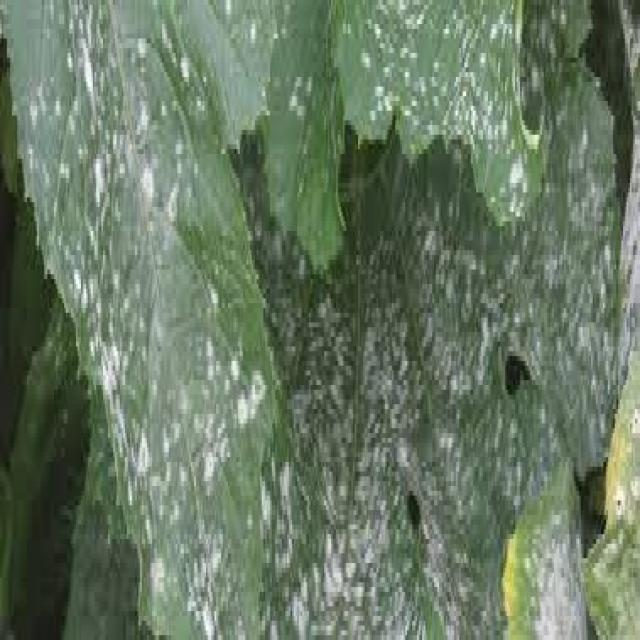powdery-mildew: (284, 301, 583, 640), (393, 196, 615, 394), (61, 0, 157, 373), (195, 294, 262, 626), (112, 385, 168, 563)
